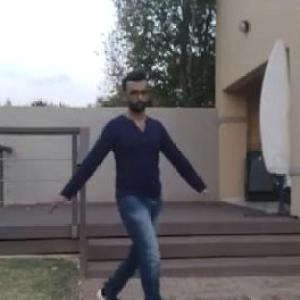land: (52, 76, 201, 299)
